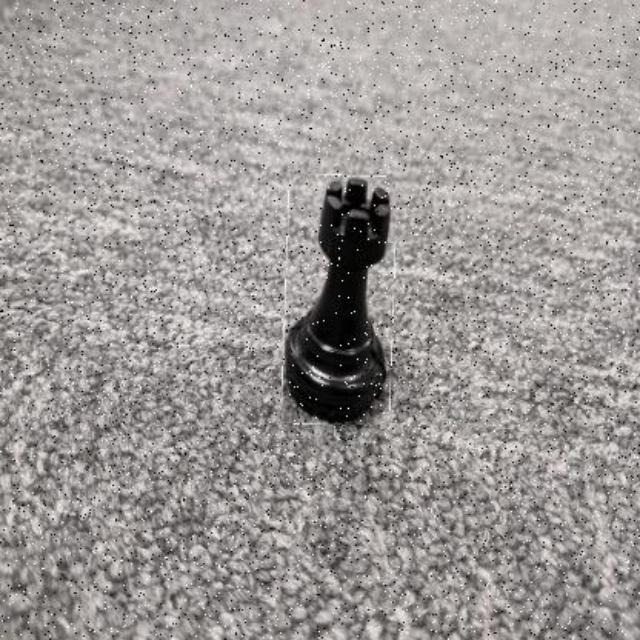black-rook: (285, 174, 395, 426)
